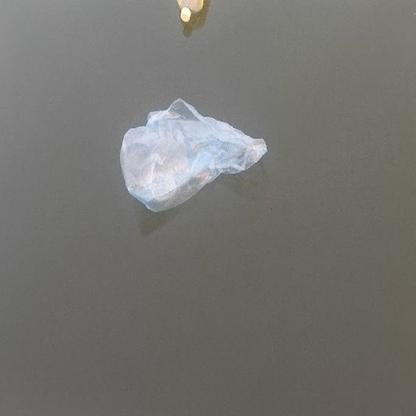plastic bag: (117, 99, 271, 212)
plastic bottle: (172, 1, 205, 21)
